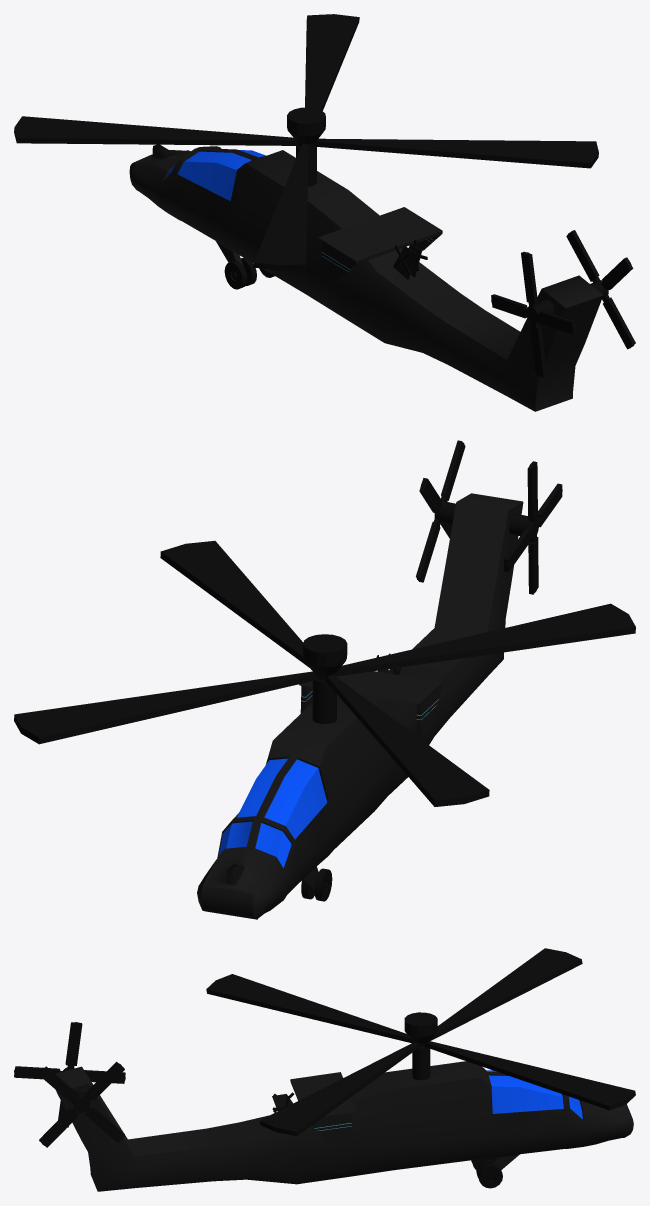
Rendered from Chopper 2.FBX.
The picture shows the model from 3 angles, top to bottom: view 1: azimuth 30°, elevation 25°; view 2: azimuth 150°, elevation 25°; view 3: azimuth 270°, elevation 25°; orthographic projection. The views are drawn at different scales.
Visible parts, largest first — view 1: HELICOPTERO003, Helice Central001, Helice Trasera002, Helice Trasera003; view 2: HELICOPTERO003, Helice Central001, Helice Trasera002, Helice Trasera003; view 3: HELICOPTERO003, Helice Central001, Helice Trasera003, Helice Trasera002, Rueda 008.
Part boxes in pixels (bbox=[...]): HELICOPTERO003: bbox=[129, 144, 603, 411]; Helice Central001: bbox=[14, 14, 598, 270]; Helice Trasera002: bbox=[491, 251, 576, 377]; Helice Trasera003: bbox=[566, 230, 635, 349]; HELICOPTERO003: bbox=[197, 493, 523, 919]; Helice Central001: bbox=[14, 540, 635, 806]; Helice Trasera002: bbox=[503, 461, 562, 594]; Helice Trasera003: bbox=[416, 440, 465, 582]; HELICOPTERO003: bbox=[55, 1061, 633, 1191]; Helice Central001: bbox=[206, 948, 635, 1136]; Helice Trasera003: bbox=[38, 1061, 125, 1147]; Helice Trasera002: bbox=[14, 1022, 125, 1127]; Rueda 008: bbox=[478, 1164, 502, 1188].
Bounding box in the file's own units: 23.04 × 9.93 × 33.4.
